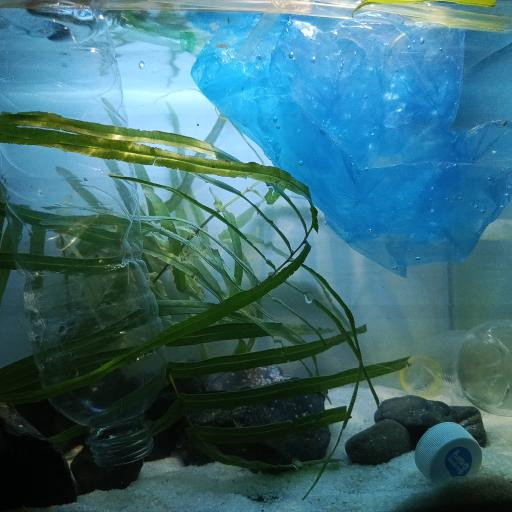bottle_cap: (415, 421, 482, 483)
plastic_bag: (191, 0, 512, 281)
plastic_bottle: (1, 0, 169, 463), (398, 323, 512, 411)
plastic_straw: (44, 0, 382, 21), (335, 0, 512, 33)
